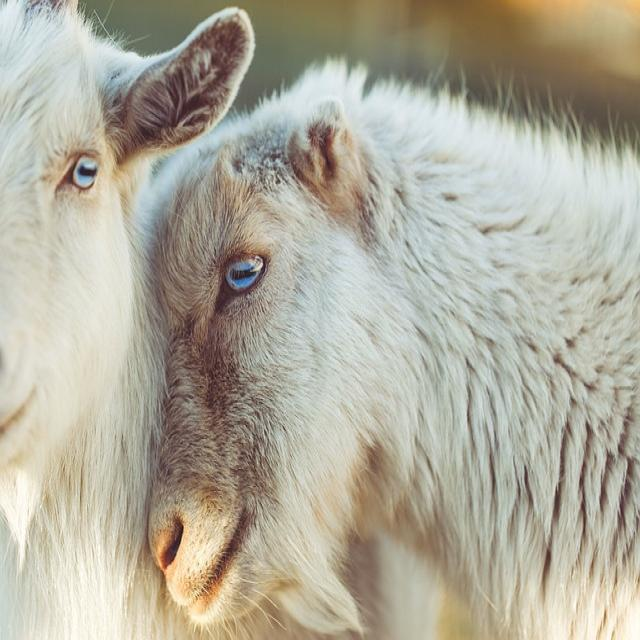goat: (135, 61, 640, 640)
